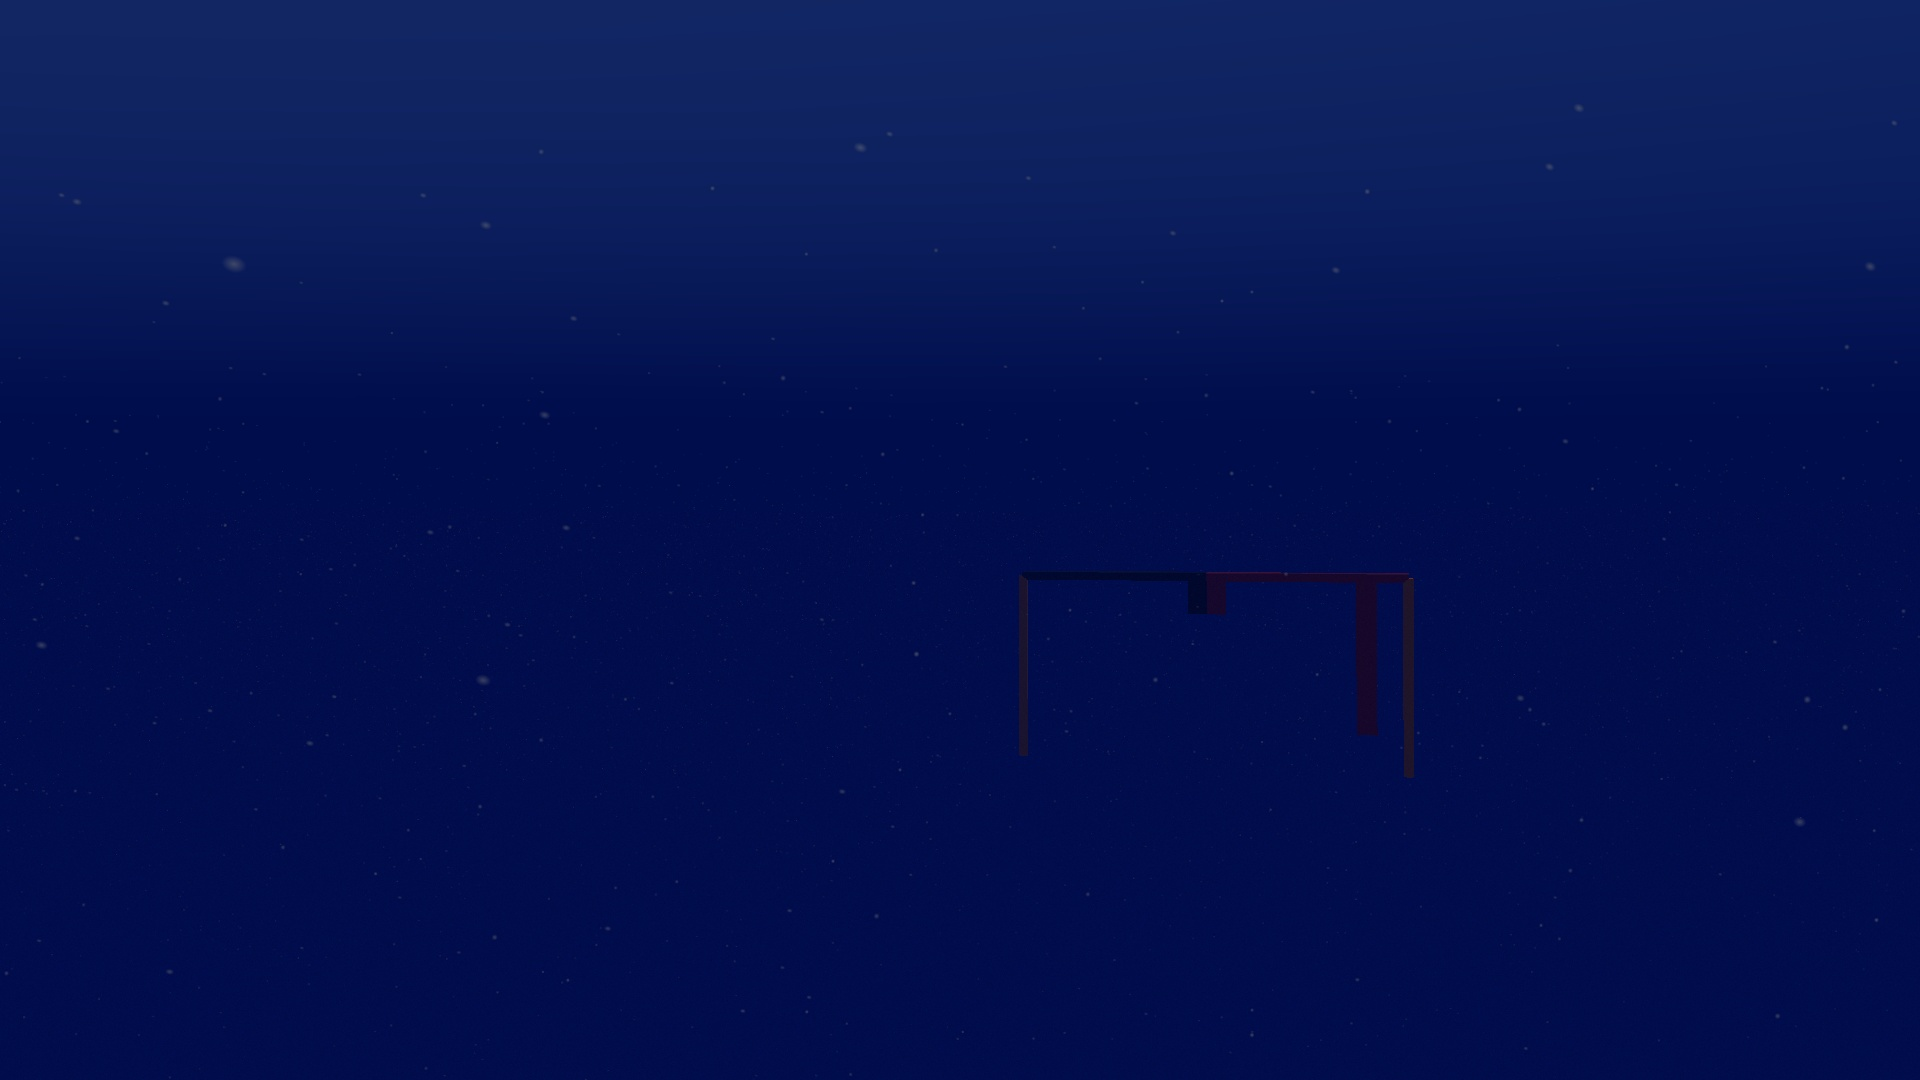Gate: (1011, 566, 1420, 789)
